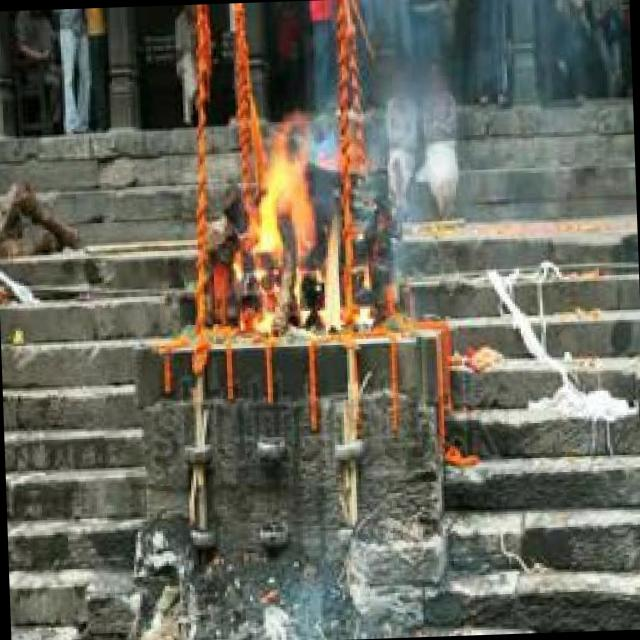Fire: (242, 118, 349, 340)
